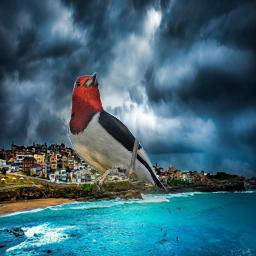Woodpecker: (63, 66, 173, 205)
